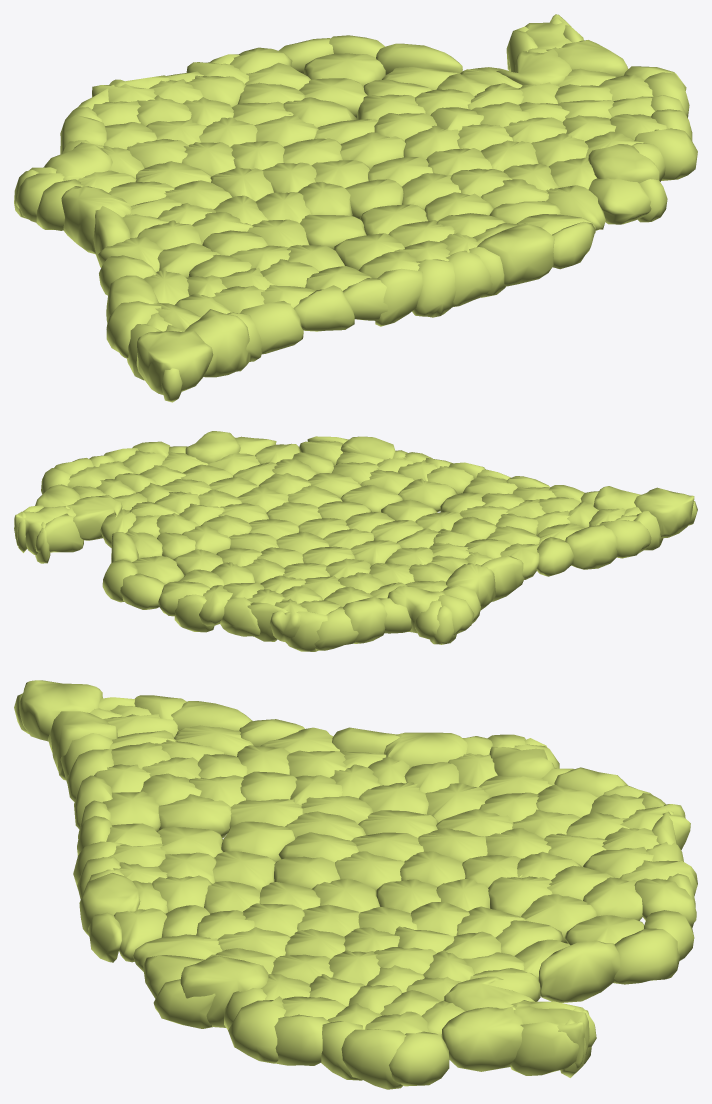
Rendered from Islands1.001_fog.fbx.
3 renders of one model, top to bottom at view 1: azimuth 30°, elevation 25°; view 2: azimuth 150°, elevation 25°; view 3: azimuth 270°, elevation 25°, orthographic. The views are drawn at different scales.
Parts seen in each view (by area): view 1: Island1.001_fog_cell.110, Island1.001_fog_cell.102, Island1.001_fog_cell.103, Island1.001_fog_cell.129, Island1.001_fog_cell.070, Island1.001_fog_cell.046, Island1.001_fog_cell.028, Island1.001_fog_cell.109, Island1.001_fog_cell.126, Island1.001_fog_cell.120, Island1.001_fog_cell.022, Island1.001_fog_cell.146 (+122 smaller); view 2: Island1.001_fog_cell.110, Island1.001_fog_cell.015, Island1.001_fog_cell.039, Island1.001_fog_cell.140, Island1.001_fog_cell.106, Island1.001_fog_cell.129, Island1.001_fog_cell.131, Island1.001_fog_cell.007, Island1.001_fog_cell.047, Island1.001_fog_cell.109, Island1.001_fog_cell.139, Island1.001_fog_cell.122 (+119 smaller); view 3: Island1.001_fog_cell.050, Island1.001_fog_cell.076, Island1.001_fog_cell.109, Island1.001_fog_cell.110, Island1.001_fog_cell.075, Island1.001_fog_cell.134, Island1.001_fog_cell.029, Island1.001_fog_cell.042, Island1.001_fog_cell.022, Island1.001_fog_cell.064, Island1.001_fog_cell.129, Island1.001_fog_cell.102 (+122 smaller).
Part boxes in pixels (x1=…): Island1.001_fog_cell.110: x1=136, y1=330, x2=213, y2=394; Island1.001_fog_cell.102: x1=477, y1=223, x2=554, y2=286; Island1.001_fog_cell.103: x1=184, y1=309, x2=250, y2=377; Island1.001_fog_cell.129: x1=61, y1=186, x2=131, y2=254; Island1.001_fog_cell.070: x1=588, y1=178, x2=651, y2=224; Island1.001_fog_cell.046: x1=240, y1=301, x2=303, y2=354; Island1.001_fog_cell.028: x1=293, y1=285, x2=354, y2=331; Island1.001_fog_cell.109: x1=588, y1=144, x2=659, y2=183; Island1.001_fog_cell.126: x1=412, y1=259, x2=456, y2=317; Island1.001_fog_cell.120: x1=303, y1=53, x2=385, y2=86; Island1.001_fog_cell.022: x1=634, y1=128, x2=697, y2=180; Island1.001_fog_cell.146: x1=375, y1=268, x2=423, y2=326; Island1.001_fog_cell.110: x1=634, y1=487, x2=694, y2=538; Island1.001_fog_cell.015: x1=565, y1=524, x2=617, y2=569; Island1.001_fog_cell.039: x1=62, y1=495, x2=122, y2=540; Island1.001_fog_cell.140: x1=343, y1=597, x2=387, y2=643; Island1.001_fog_cell.106: x1=35, y1=513, x2=83, y2=552; Island1.001_fog_cell.129: x1=446, y1=563, x2=495, y2=610; Island1.001_fog_cell.131: x1=120, y1=573, x2=165, y2=609; Island1.001_fog_cell.007: x1=314, y1=606, x2=358, y2=650; Island1.001_fog_cell.047: x1=599, y1=520, x2=651, y2=558; Island1.001_fog_cell.109: x1=185, y1=431, x2=240, y2=463; Island1.001_fog_cell.139: x1=220, y1=597, x2=260, y2=636; Island1.001_fog_cell.122: x1=481, y1=555, x2=524, y2=601; Island1.001_fog_cell.050: x1=441, y1=1005, x2=523, y2=1071; Island1.001_fog_cell.076: x1=538, y1=940, x2=620, y2=1002; Island1.001_fog_cell.109: x1=180, y1=955, x2=268, y2=1027; Island1.001_fog_cell.110: x1=19, y1=680, x2=102, y2=741; Island1.001_fog_cell.075: x1=613, y1=928, x2=680, y2=984; Island1.001_fog_cell.134: x1=341, y1=1029, x2=406, y2=1089; Island1.001_fog_cell.029: x1=510, y1=1021, x2=578, y2=1075; Island1.001_fog_cell.042: x1=389, y1=1031, x2=449, y2=1086; Island1.001_fog_cell.022: x1=228, y1=996, x2=285, y2=1063; Island1.001_fog_cell.064: x1=274, y1=1014, x2=329, y2=1065; Island1.001_fog_cell.129: x1=384, y1=732, x2=467, y2=768; Island1.001_fog_cell.102: x1=79, y1=873, x2=140, y2=935.
Size of the model in its own units: 138 by 11.75 by 108.
